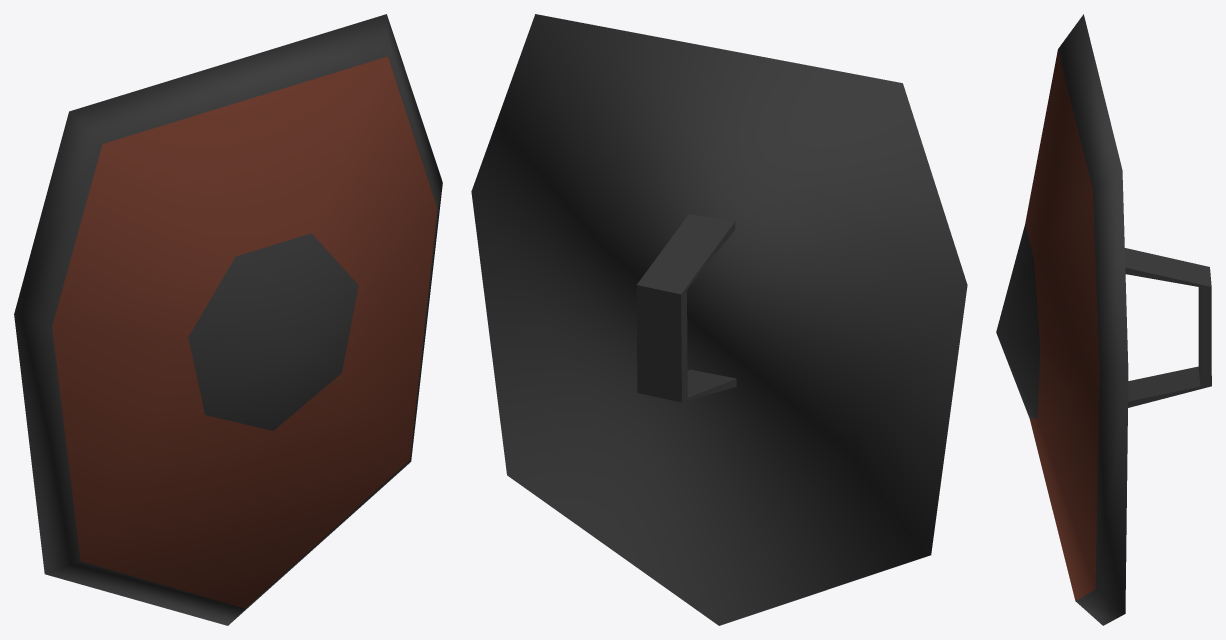
The model's file is bronze_shield.glb.
3 renders of one model, left to right at view 1: azimuth 30°, elevation 25°; view 2: azimuth 150°, elevation 25°; view 3: azimuth 270°, elevation 25°, orthographic. The views are drawn at different scales.
Parts seen in each view (by area): view 1: Bronze Shield; view 2: Bronze Shield; view 3: Bronze Shield.
Boxes of the visible parts, x1=… form: Bronze Shield: x1=14, y1=14, x2=442, y2=625; Bronze Shield: x1=471, y1=14, x2=967, y2=625; Bronze Shield: x1=996, y1=14, x2=1211, y2=625.
Size of the model in its own units: 0.2506 by 0.2955 by 0.1082.
